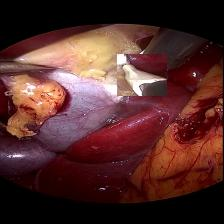Grasper: (0, 54, 60, 76)
Hook: (117, 53, 167, 95)
